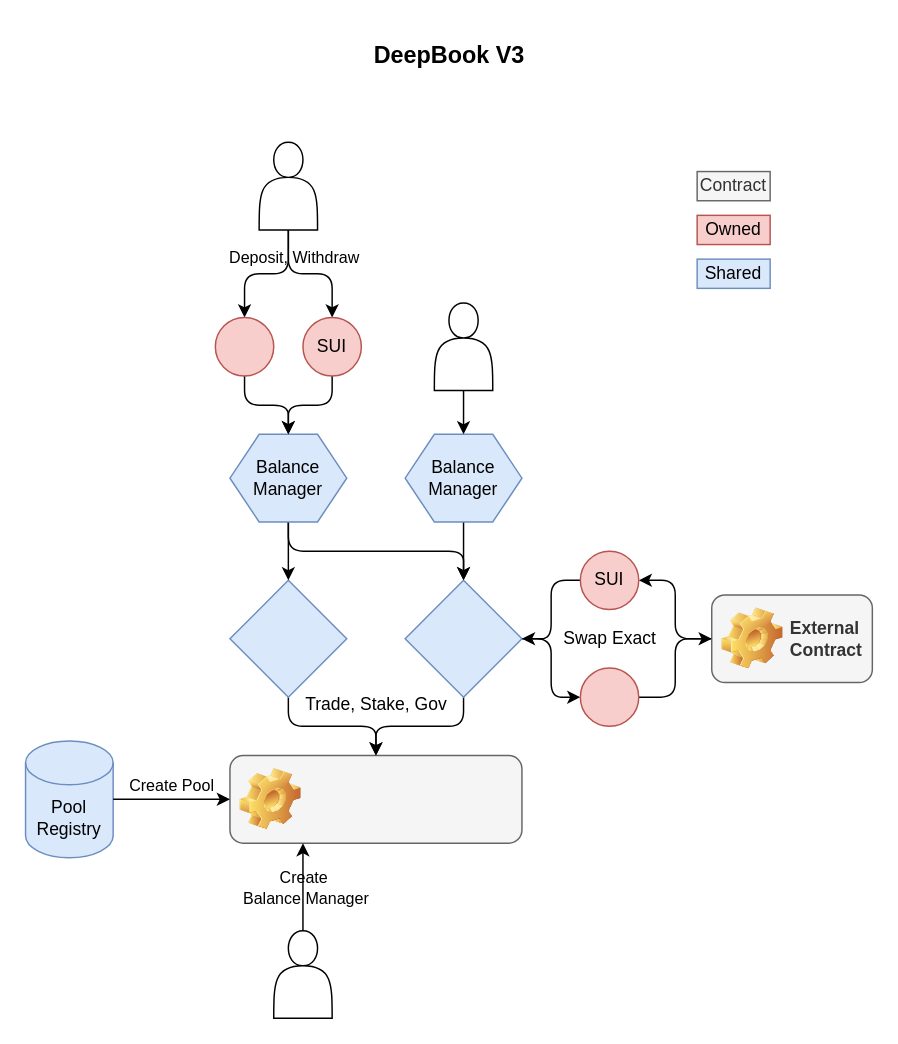
Image size: 898x1044. Some labels were removed from this diagram. The centre of each missing label's shape, as x and y in pixels:
"DEEP" belongs at [244,346].
"DeepBook V3 Contract" belongs at [375,798].
"SUI/USDC" belongs at [287,638].
"USDC" belongs at [609,696].
"USDT/USDC" belongs at [463,638].
